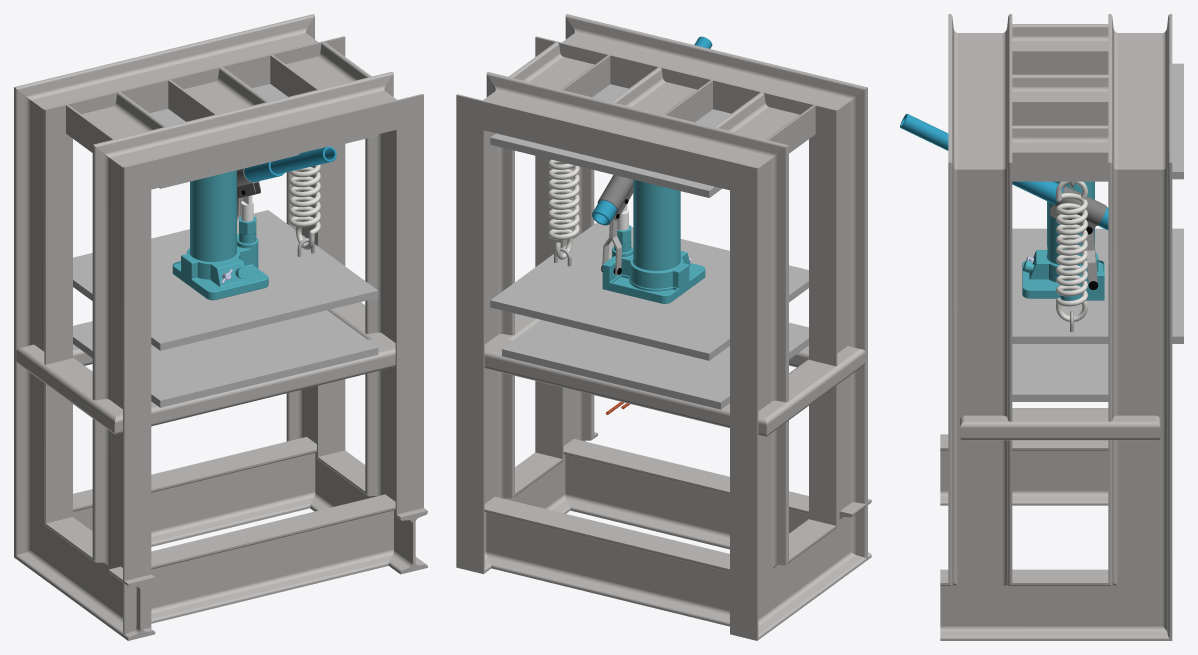
File: press.glb
3 views of the same model, side by side, from view 1: azimuth 30°, elevation 25°; view 2: azimuth 150°, elevation 25°; view 3: azimuth 270°, elevation 25° (orthographic).
Visible parts, largest first — view 1: Solid1 (×27), Envolver2; view 2: Solid1 (×25), Envolver2, Cortar-Extruir13; view 3: Solid1 (×21), Envolver2, Cortar-Extruir13, Cortar-Extruir12[1].
Part boxes in pixels (<box>): Solid1 (×27): <box>14,14,427,640</box>; Envolver2: <box>172,170,268,300</box>; Solid1 (×25): <box>456,14,871,640</box>; Envolver2: <box>602,179,705,303</box>; Cortar-Extruir13: <box>597,175,633,220</box>; Solid1 (×21): <box>900,14,1183,640</box>; Envolver2: <box>1022,181,1104,300</box>; Cortar-Extruir13: <box>1049,185,1106,231</box>; Cortar-Extruir12[1]: <box>1086,231,1097,282</box>.
Size of the model in its own units: 0.4508 by 0.66 by 0.355.
